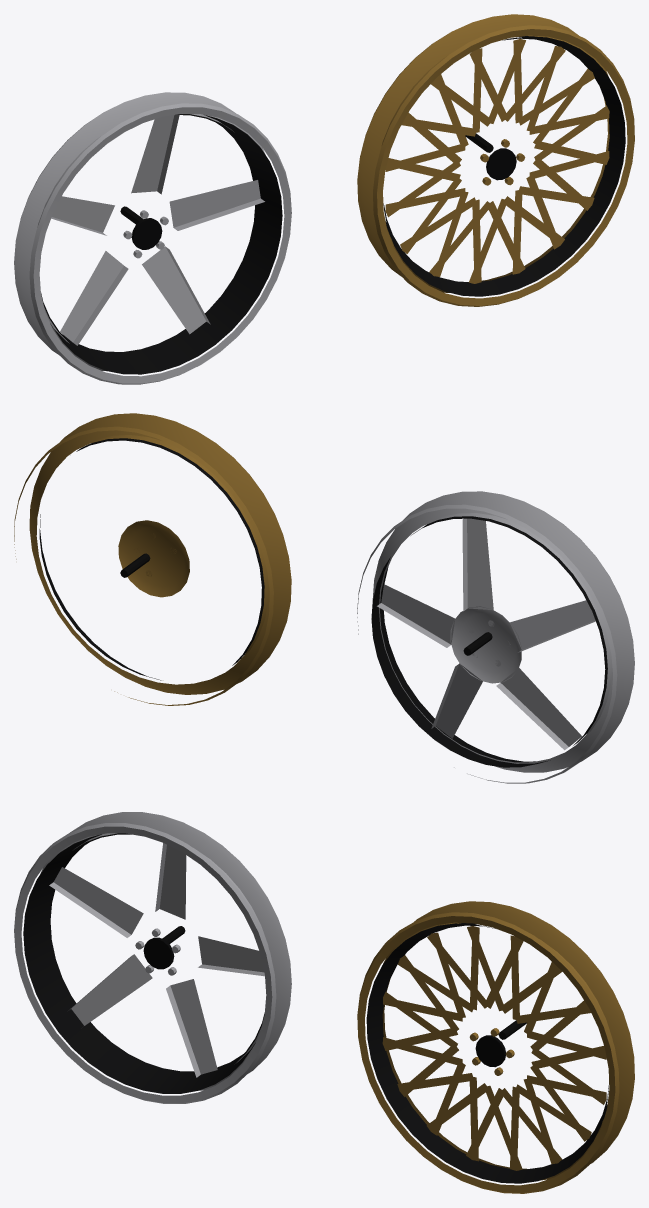
File: rims-wall.glb
The picture shows the model from 3 angles, top to bottom: view 1: azimuth 30°, elevation 25°; view 2: azimuth 150°, elevation 25°; view 3: azimuth 330°, elevation 25°; orthographic projection.
Visible parts, largest first — view 1: rims; view 2: rims; view 3: rims.
Boxes of the visible parts, x1=… form: rims: x1=14, y1=14, x2=634, y2=384; rims: x1=14, y1=413, x2=634, y2=783; rims: x1=14, y1=812, x2=634, y2=1193.
Bounding box in the file's own units: 1.09 × 0.4838 × 0.12.
